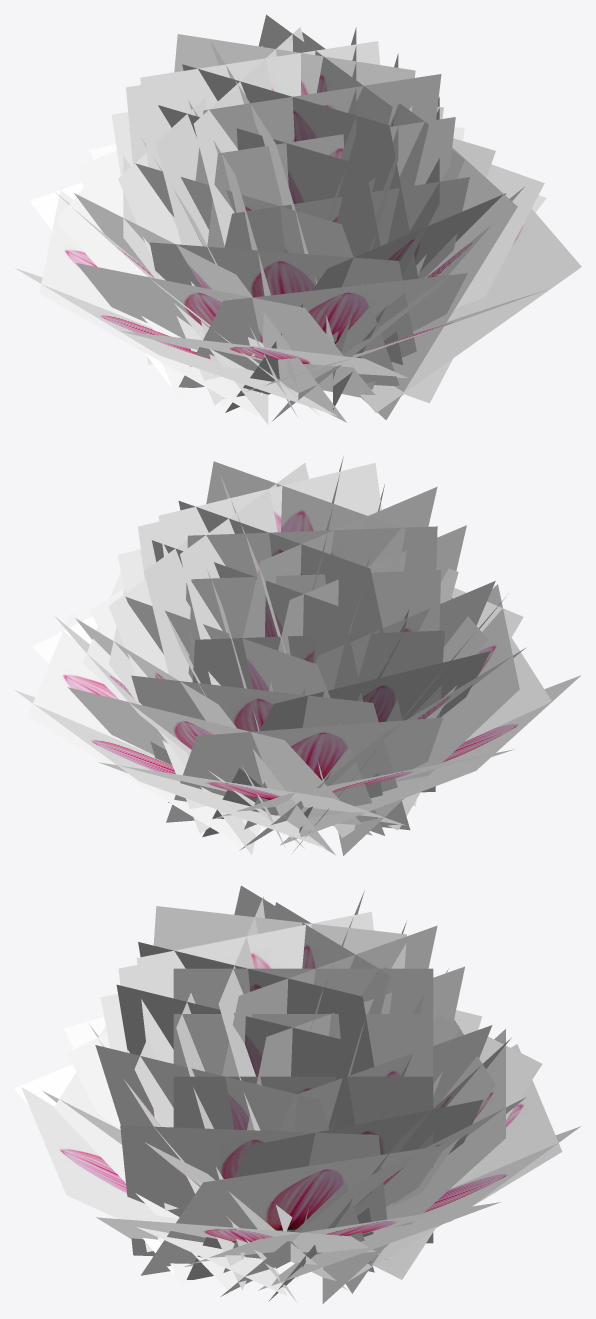
File: Nenuphar_fleur01.fbx
3 views of the same model, one above another, from view 1: azimuth 30°, elevation 25°; view 2: azimuth 150°, elevation 25°; view 3: azimuth 270°, elevation 25° (orthographic). The views are drawn at different scales.
Parts seen in each view (by area): view 1: pPlane24; view 2: pPlane24; view 3: pPlane24.
Part boxes in pixels (bbox=[...]): pPlane24: bbox=[15, 14, 581, 424]; pPlane24: bbox=[14, 456, 581, 855]; pPlane24: bbox=[14, 885, 581, 1303].
Bounding box in the file's own units: 20.66 × 12.07 × 20.72.
1 material, 1 textured.
